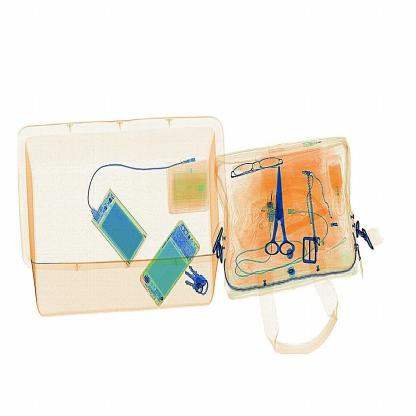gun: (266, 154, 300, 273)
